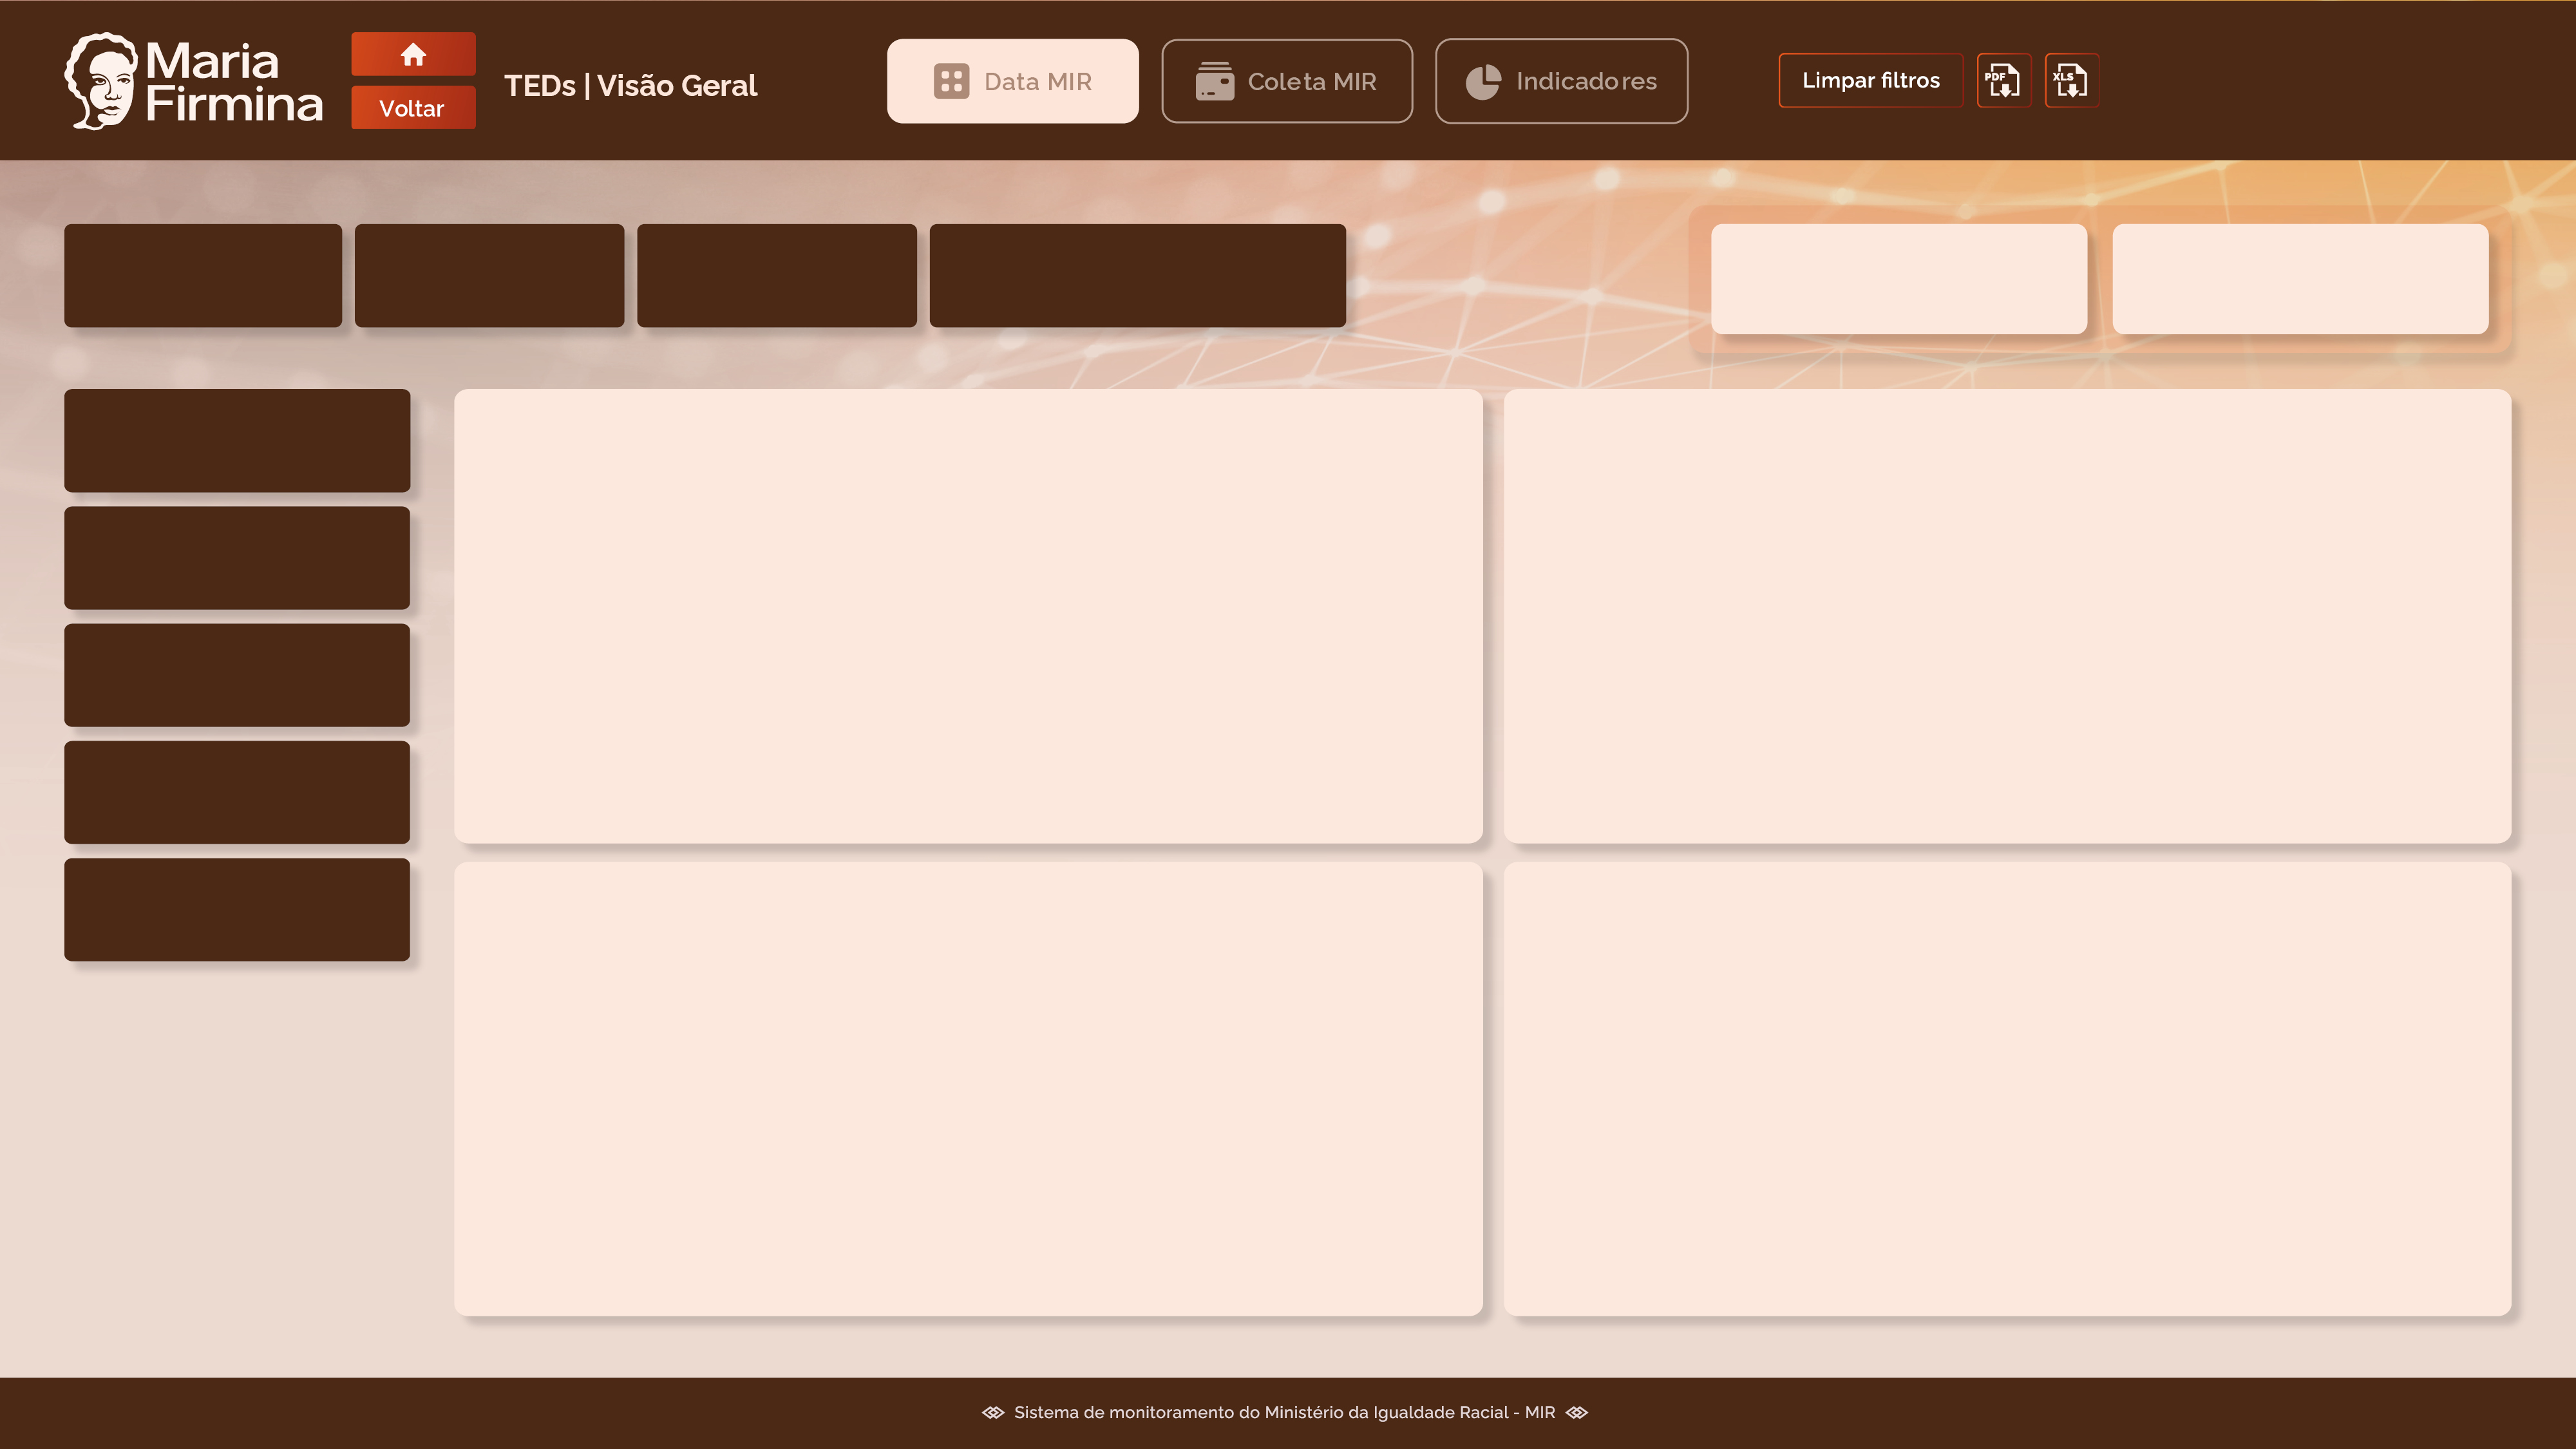

The dashboard page shown, as its layout file describes it:
{"tool":"powerbi","page":{"name":"Termos de Fomento","canvas":[1920,1080],"ordinal":21},"visuals":[{"type":"tableEx","fields":{"Values":["resumo_convenios.data_assinatura.Variation.Hierarquia de datas.Ano","resumo_convenios.nr_convenio","resumo_convenios.situacao_atual","resumo_convenios.modalidade_instrumento","resumo_convenios.parlamentares","resumo_convenios.partidos","resumo_convenios.uf_execucao","resumo_convenios.categoria_convenente","resumo_convenios.nome_convenente","resumo_convenios.objeto","resumo_convenios.data_assinatura","resumo_convenios.inicio_vigencia"]},"box":[54.3,392.9,1817.1,584.3],"z":0},{"type":"slicer","fields":{"Values":["resumo_convenios.nr_convenio"]},"box":[974.3,170,440,82.9],"z":1000},{"type":"slicer","fields":{"Values":["resumo_convenios.situacao_atual"]},"box":[974.3,272.9,440,82.9],"z":2000},{"type":"slicer","fields":{"Values":["resumo_convenios.uf_execucao"]},"box":[1432.9,272.9,438.6,82.9],"z":3000},{"type":"slicer","fields":{"Values":["resumo_convenios.nome_convenente"]},"box":[47.1,272.9,407.1,82.9],"z":4000},{"type":"slicer","fields":{"Values":["resumo_convenios.parlamentares"]},"box":[1432.9,170,438.6,82.9],"z":5000},{"type":"slicer","fields":{"Values":["resumo_convenios.partidos"]},"box":[485.7,272.9,462.9,82.9],"z":6000},{"type":"slicer","fields":{"Values":["resumo_convenios.categoria_convenente"]},"box":[362.9,170,585.7,82.9],"z":7000},{"type":"slicer","fields":{"Values":["resumo_convenios.data_assinatura.Variation.Hierarquia de datas.Ano"]},"box":[47.1,170,140,82.9],"z":9000},{"type":"actionButton","box":[253.6,12.9,84.3,33.6],"z":10000},{"type":"actionButton","box":[253.6,51.4,84.3,32.1],"z":11000},{"type":"textbox","box":[1698.1,29.9,147.1,84.3],"z":12000},{"type":"actionButton","box":[1071.7,30.3,188.7,63.4],"z":13000},{"type":"image","box":[1845.7,49.2,53.3,37.8],"z":14000},{"type":"slicer","fields":{"Values":["resumo_convenios.data_assinatura.Variation.Hierarquia de datas.Ano"]},"box":[201.4,170,137.1,82.9],"z":15000},{"type":"textbox","box":[54.3,994.3,773.6,27.4],"z":16000},{"type":"actionButton","box":[866,28.7,187.3,62.7],"z":17000},{"type":"pageNavigator","box":[48.8,128.8,800,27.5],"z":18000}]}

Visuals, with their boxes on the page's 1920x1080 design canvas (x1, y1, x2, y2). These are canvas units, not pixel positions in the 2576x1449 screenshot, which may show the page scaled, cropped or inside an application window:
tableEx - resumo_convenios.data_assinatura.Variation.Hierarquia de datas.Ano x resumo_convenios.nr_convenio: x1=54, y1=393, x2=1871, y2=977
slicer - resumo_convenios.nr_convenio: x1=974, y1=170, x2=1414, y2=253
slicer - resumo_convenios.situacao_atual: x1=974, y1=273, x2=1414, y2=356
slicer - resumo_convenios.uf_execucao: x1=1433, y1=273, x2=1872, y2=356
slicer - resumo_convenios.nome_convenente: x1=47, y1=273, x2=454, y2=356
slicer - resumo_convenios.parlamentares: x1=1433, y1=170, x2=1872, y2=253
slicer - resumo_convenios.partidos: x1=486, y1=273, x2=949, y2=356
slicer - resumo_convenios.categoria_convenente: x1=363, y1=170, x2=949, y2=253
slicer - resumo_convenios.data_assinatura.Variation.Hierarquia de datas.Ano: x1=47, y1=170, x2=187, y2=253
actionButton: x1=254, y1=13, x2=338, y2=46
actionButton: x1=254, y1=51, x2=338, y2=84
textbox: x1=1698, y1=30, x2=1845, y2=114
actionButton: x1=1072, y1=30, x2=1260, y2=94
image: x1=1846, y1=49, x2=1899, y2=87
slicer - resumo_convenios.data_assinatura.Variation.Hierarquia de datas.Ano: x1=201, y1=170, x2=338, y2=253
textbox: x1=54, y1=994, x2=828, y2=1022
actionButton: x1=866, y1=29, x2=1053, y2=91
pageNavigator: x1=49, y1=129, x2=849, y2=156
